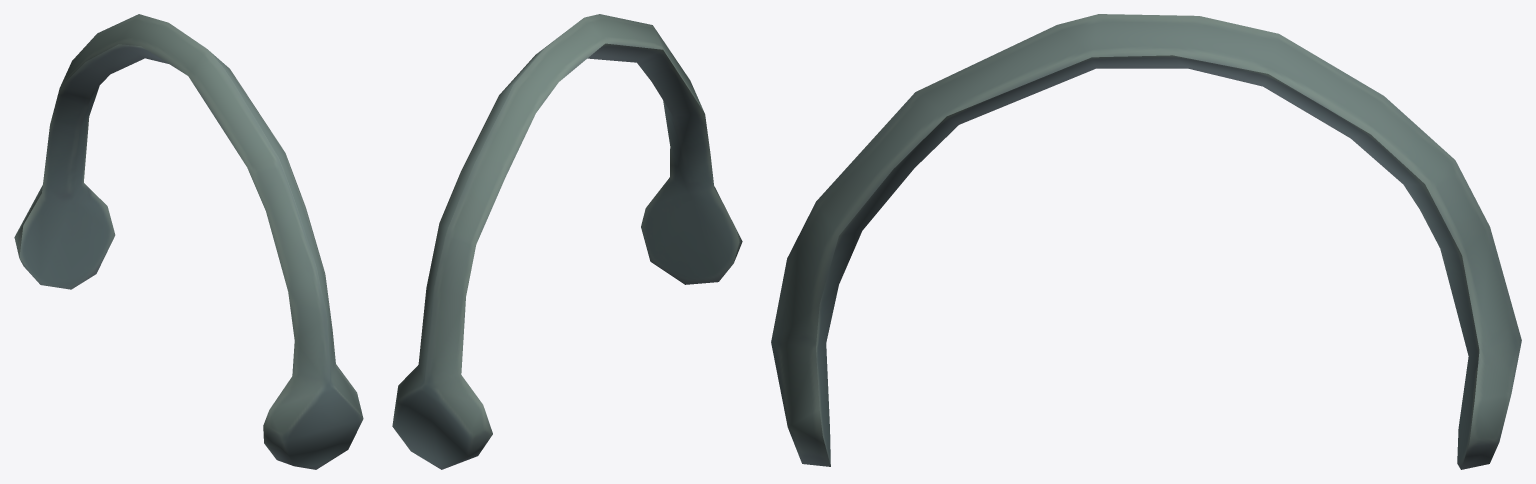
Rendered from SM_FW01_CampProp_Pot_B_Handle_01.fbx.
The picture shows the model from 3 angles, left to right: view 1: azimuth 30°, elevation 25°; view 2: azimuth 150°, elevation 25°; view 3: azimuth 270°, elevation 25°; orthographic projection. The views are drawn at different scales.
Parts seen in each view (by area): view 1: SM_FW01_CampProp_Pot_B_Handle_01_LOD0; view 2: SM_FW01_CampProp_Pot_B_Handle_01_LOD0; view 3: SM_FW01_CampProp_Pot_B_Handle_01_LOD0.
Boxes of the visible parts, box(x1,y1,x2,y2) form: SM_FW01_CampProp_Pot_B_Handle_01_LOD0: box(14, 14, 363, 469); SM_FW01_CampProp_Pot_B_Handle_01_LOD0: box(392, 14, 742, 469); SM_FW01_CampProp_Pot_B_Handle_01_LOD0: box(771, 14, 1521, 469).
Size of what is drawn, in the model's own units: 0.1611 by 0.542 by 0.8162.
